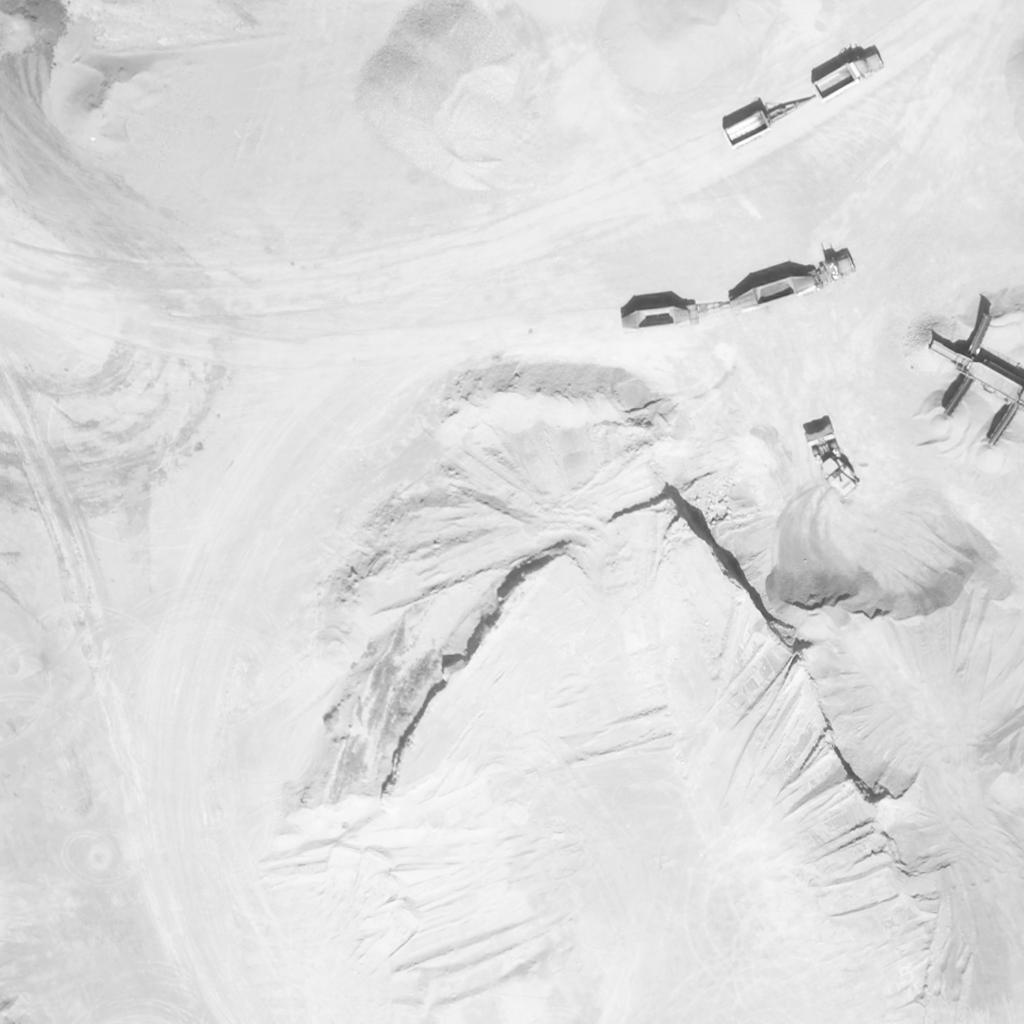vehicle: (730, 249, 860, 319), (798, 424, 868, 502), (810, 49, 888, 109)
